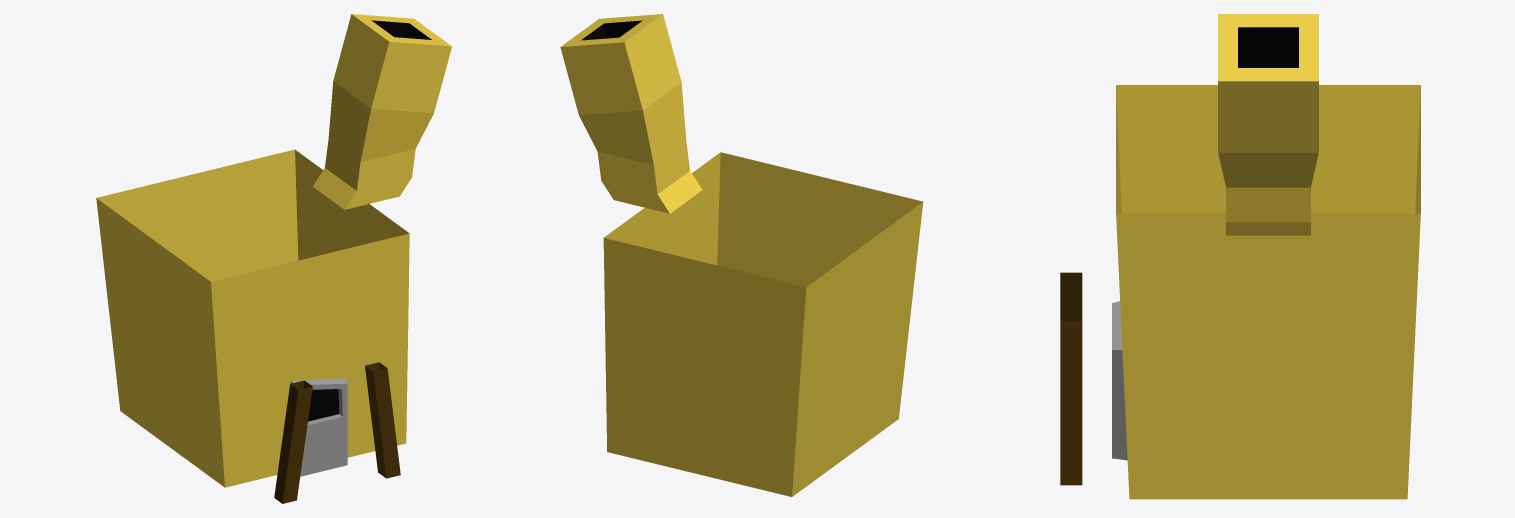
The model's file is CasinhahumindeAmarelo.fbx.
3 renders of one model, left to right at view 1: azimuth 30°, elevation 25°; view 2: azimuth 150°, elevation 25°; view 3: azimuth 270°, elevation 25°, orthographic. The views are drawn at different scales.
Parts seen in each view (by area): view 1: CasinhahumindeAmarelo; view 2: CasinhahumindeAmarelo; view 3: CasinhahumindeAmarelo.
Part boxes in pixels (x1,y1,x2,y2): CasinhahumindeAmarelo: [96, 14, 451, 503]; CasinhahumindeAmarelo: [560, 14, 923, 496]; CasinhahumindeAmarelo: [1060, 14, 1420, 499].
Size of the model in its own units: 827 by 894 by 750.
